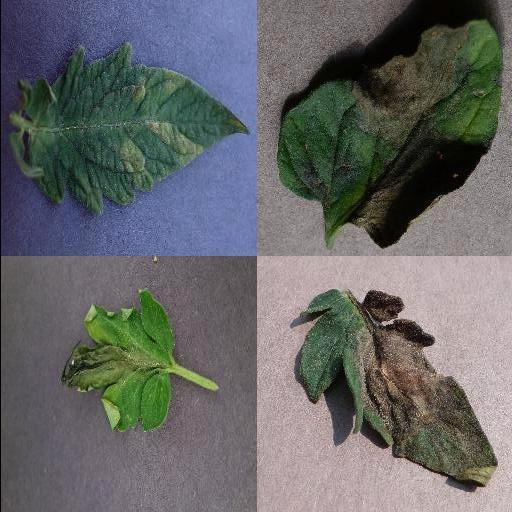Late Blight: (274, 18, 502, 250), (297, 289, 497, 487), (57, 290, 177, 436)
Leaf Mold: (9, 43, 249, 214)
